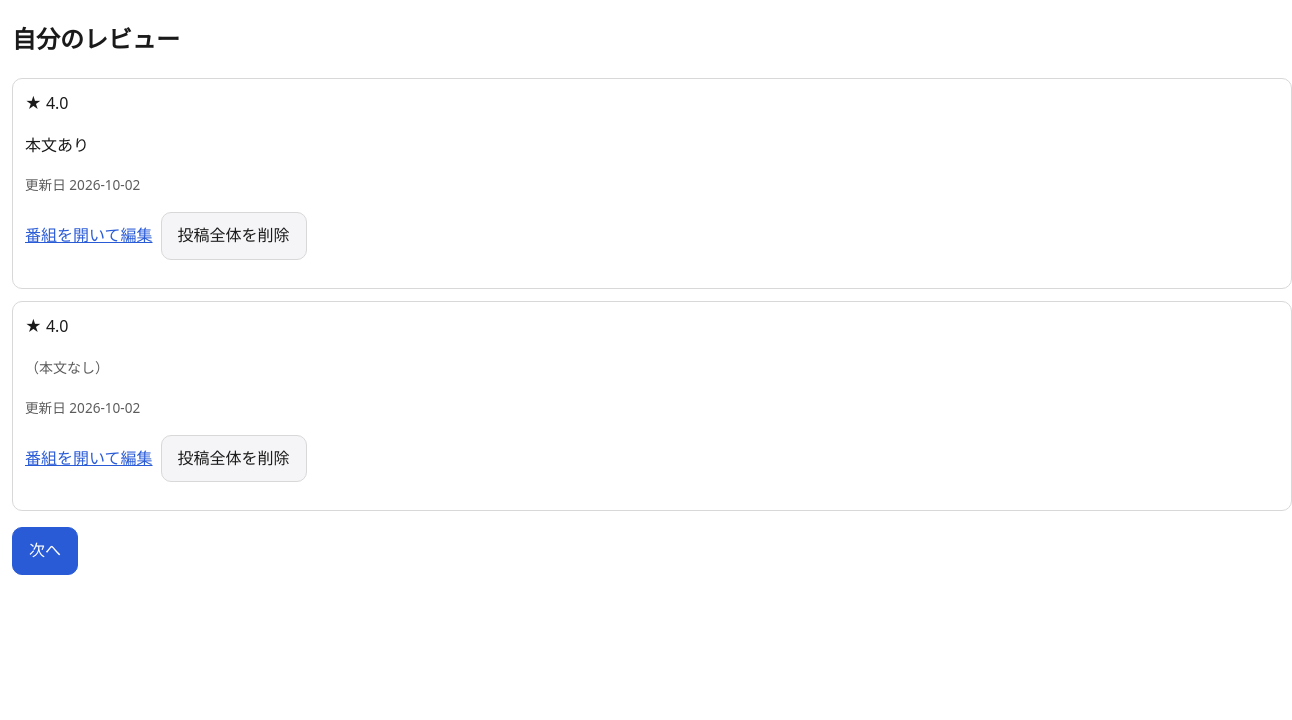
MyReviews › shows own reviews including rating-only, and pages with the cursor
The image size is (1292, 720).
expect the text "本文あり" is shown: met, box [25, 134, 89, 156]
expect the text "（本文なし）" is shown: met, box [25, 358, 109, 377]
Click the button "次へ". click: (45, 551)
box: [12, 527, 78, 575]
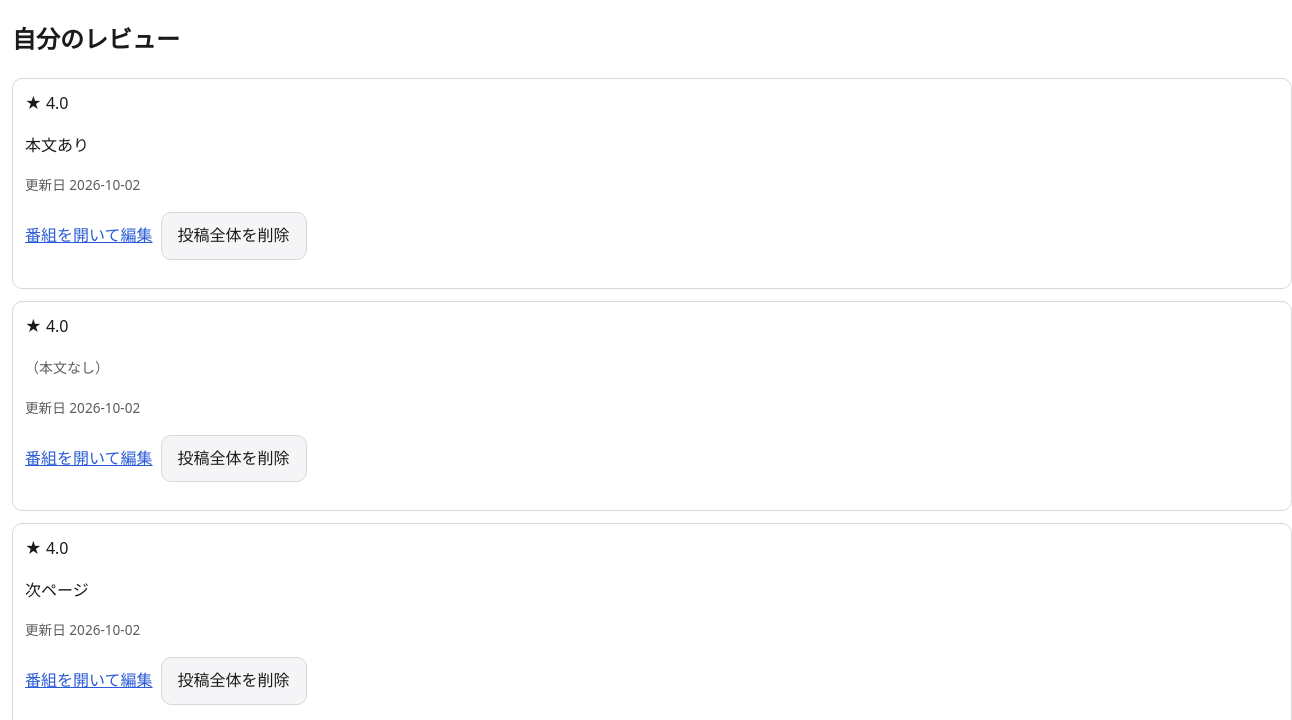
expect the text "次ページ" is shown: met, box [25, 579, 89, 601]
